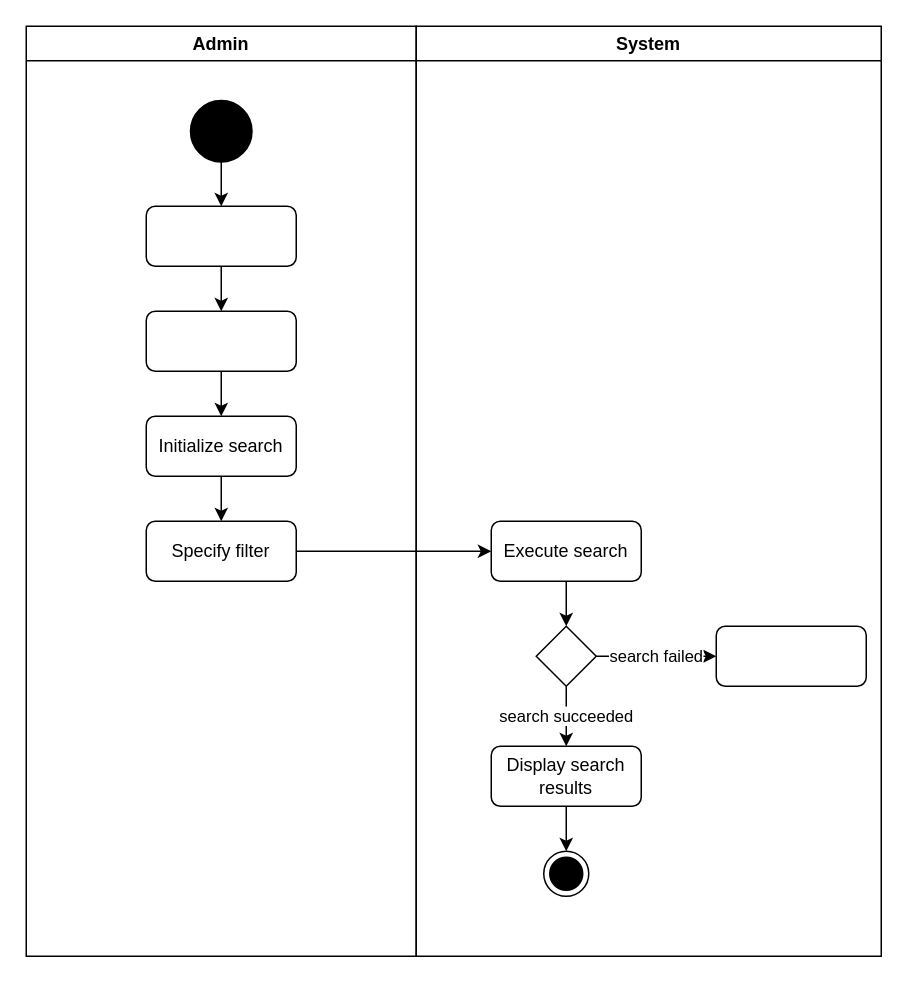
Some shapes in this 908 by 983 pixel diagram are drawn without their labels. The centre of each missing label's shape, as x and y in pixels:
"Display error message" goes at point (790, 655).
"Login to system" goes at point (220, 235).
"Navigate to user management" goes at point (220, 340).
